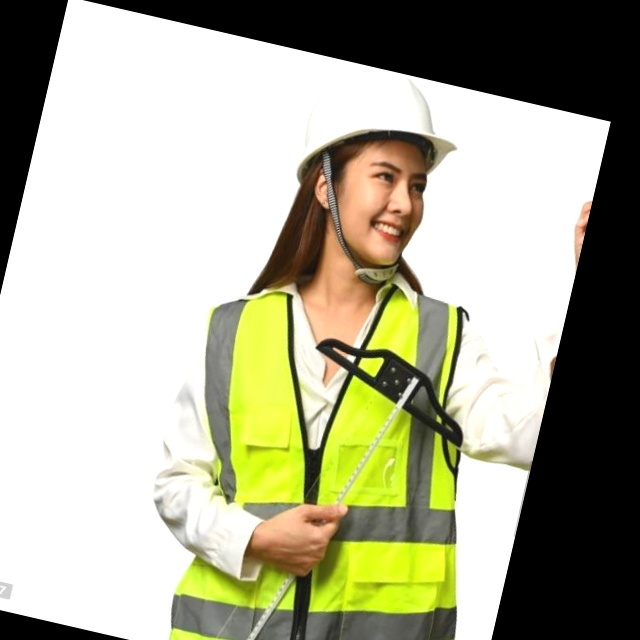Con_Casco: (273, 54, 470, 280)
Con_Chaleco: (134, 252, 533, 640)
